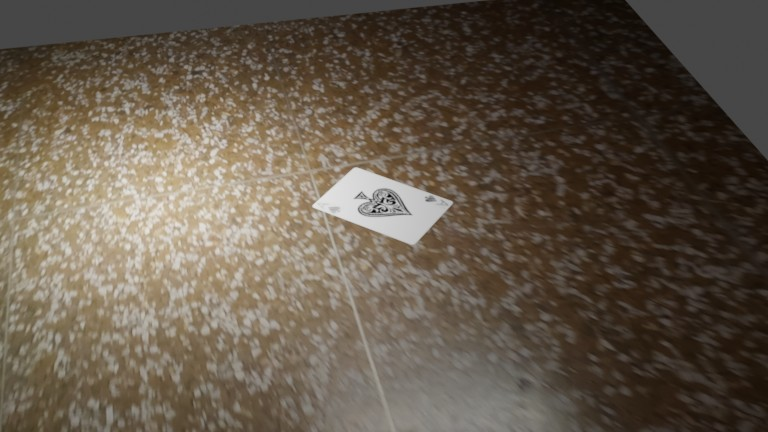ace_of_spades: (421, 193, 452, 209), (313, 199, 344, 215)
